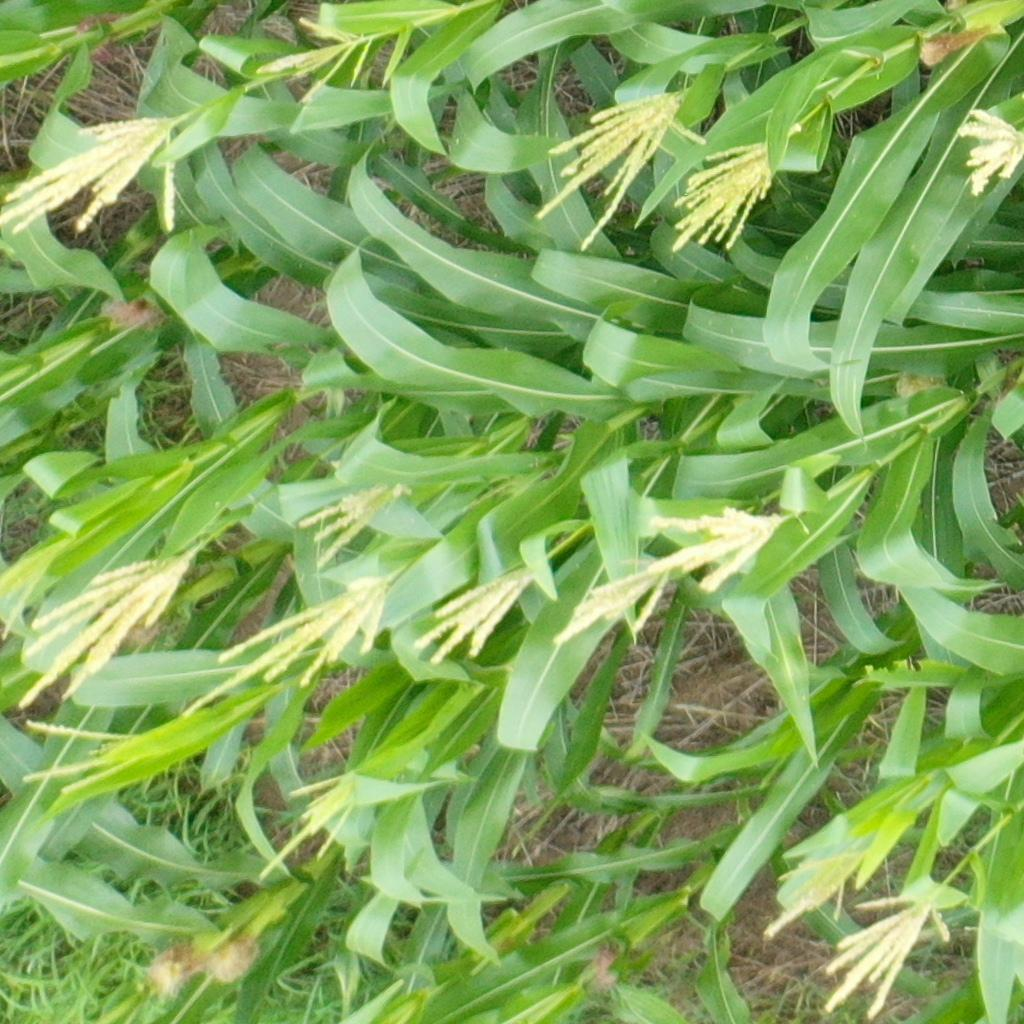Tassel: (167, 576, 398, 720), (1, 553, 196, 710), (531, 88, 708, 251), (1, 113, 184, 241), (826, 891, 960, 1023), (669, 140, 786, 253), (409, 567, 541, 665), (257, 767, 363, 884), (646, 505, 790, 591), (253, 16, 376, 104), (299, 480, 416, 568), (18, 718, 145, 795), (766, 847, 871, 939), (556, 566, 677, 644), (956, 105, 1023, 198)
